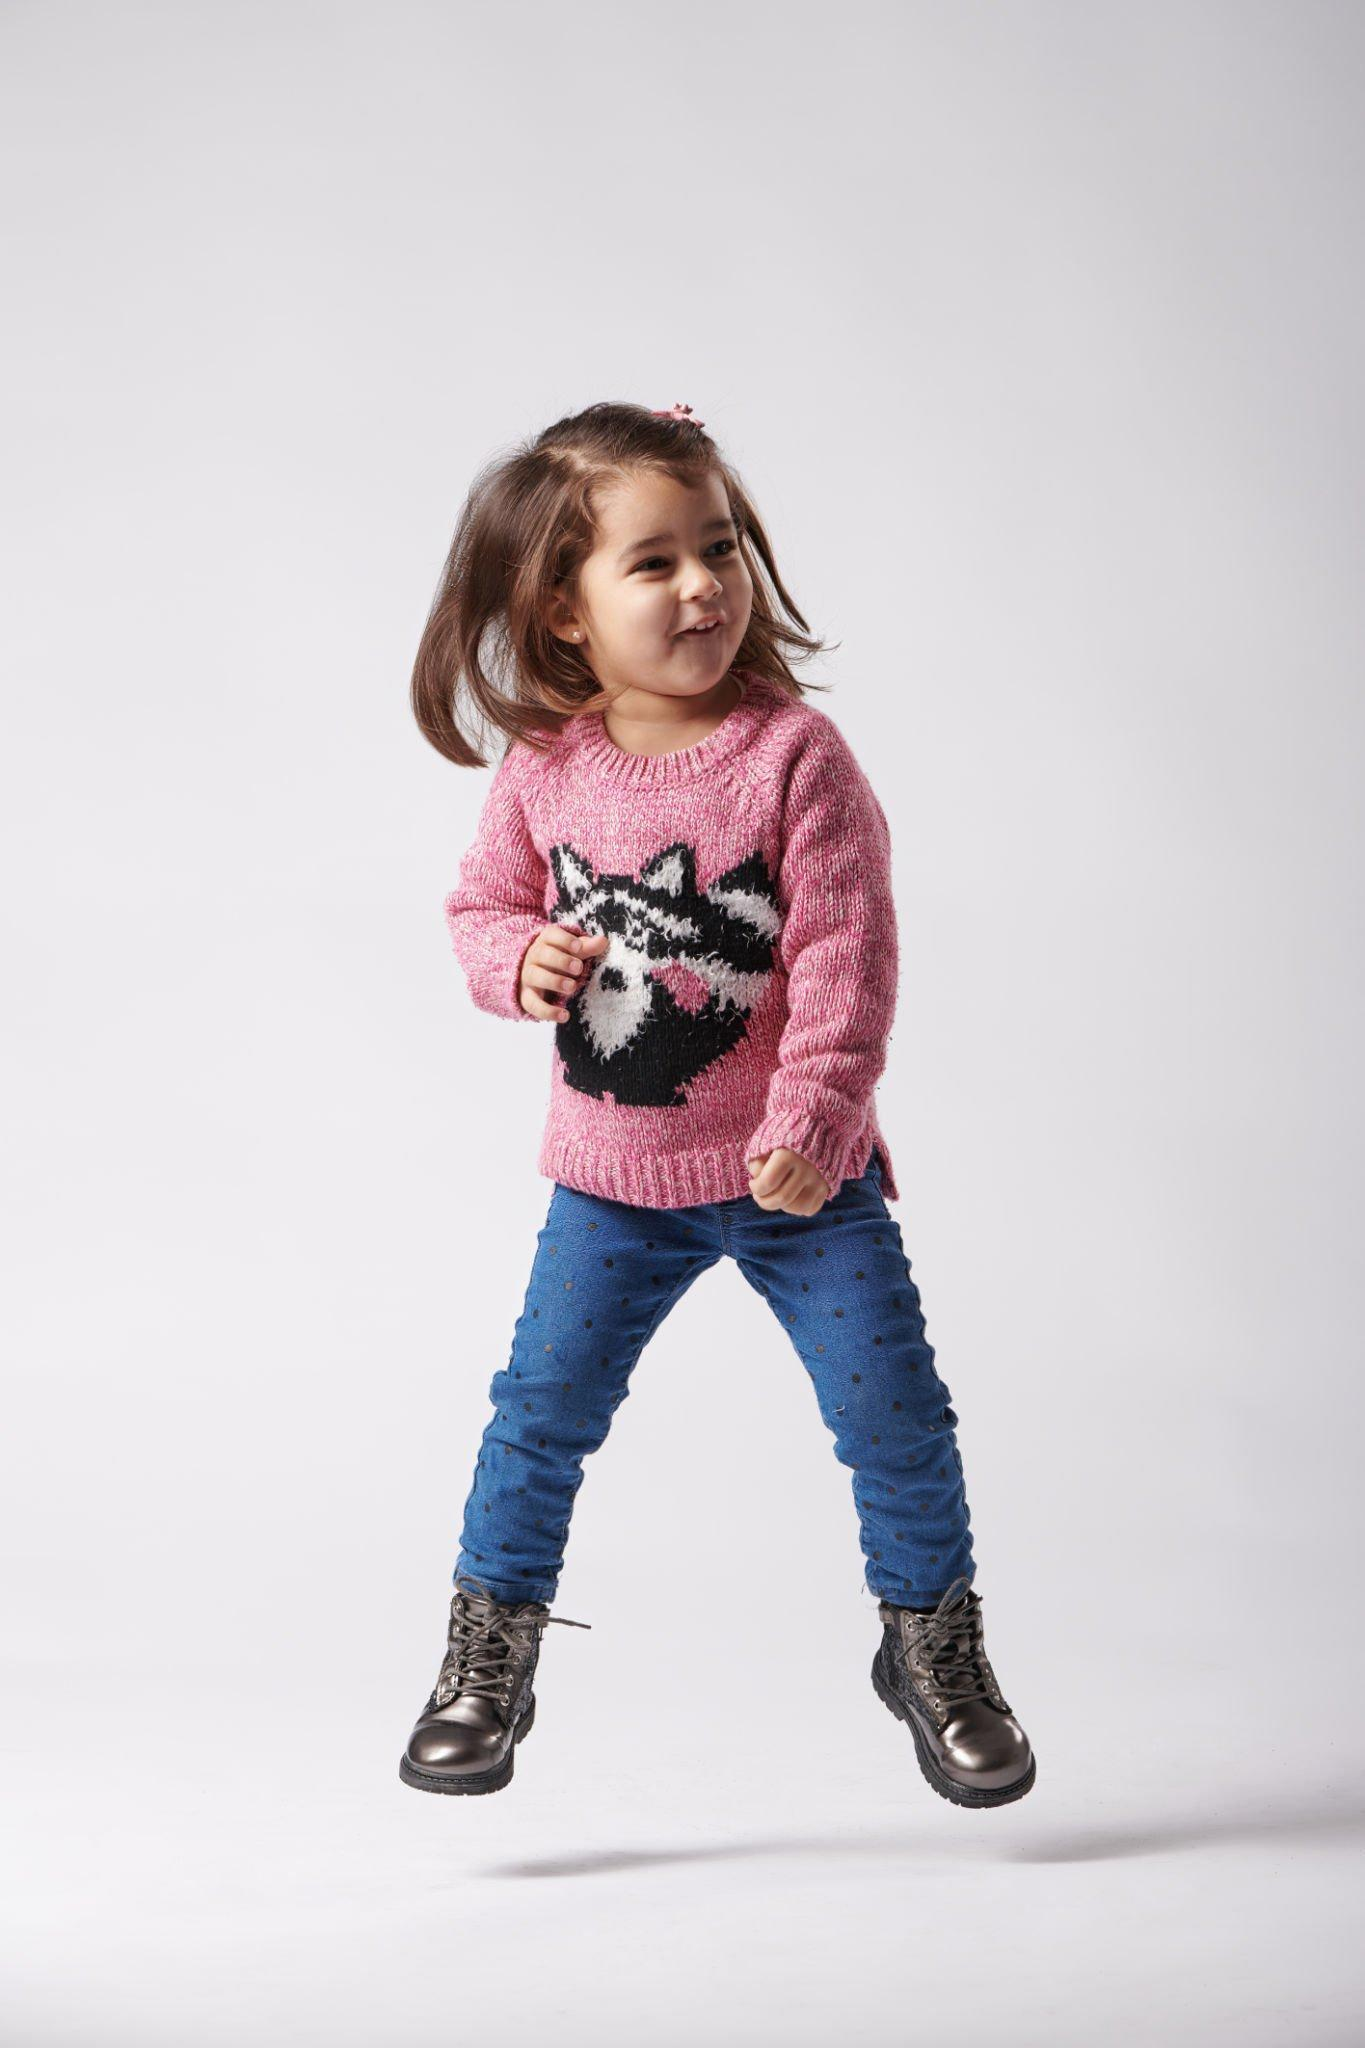Healthy: (561, 469, 812, 705)
